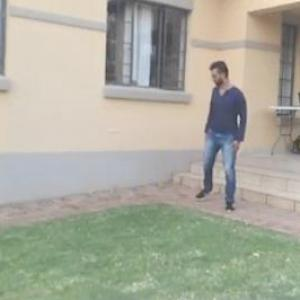follow: (197, 53, 245, 219)
